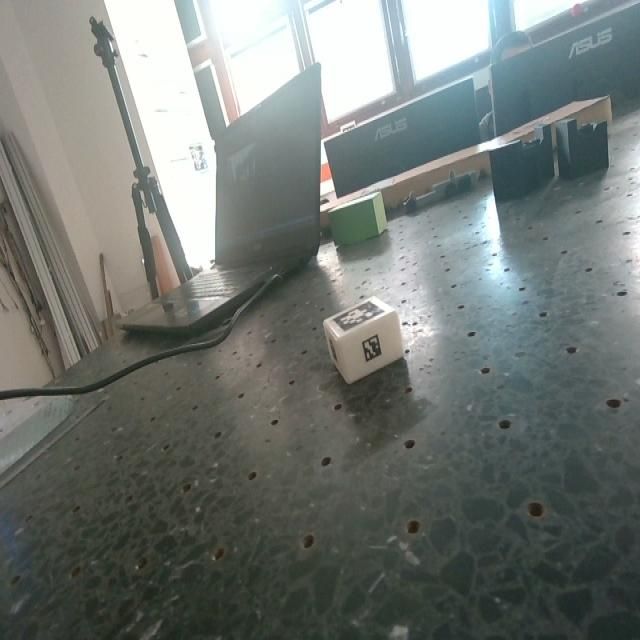Cube: (322, 300, 405, 387)
